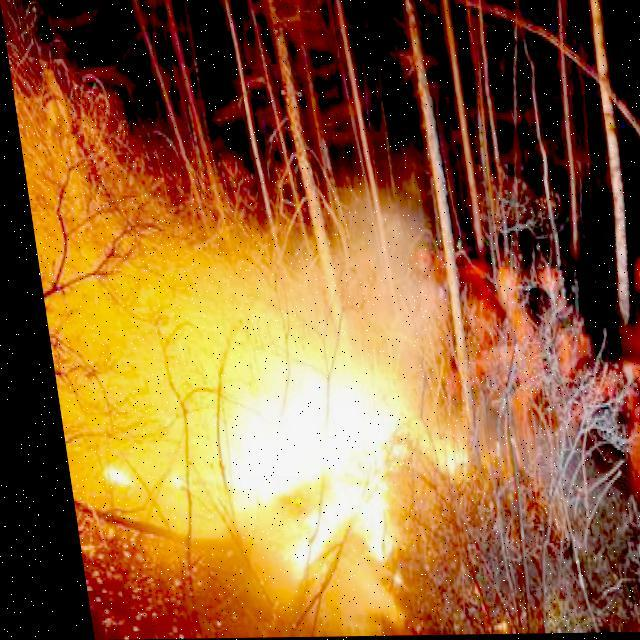Fire: (198, 354, 406, 580)
